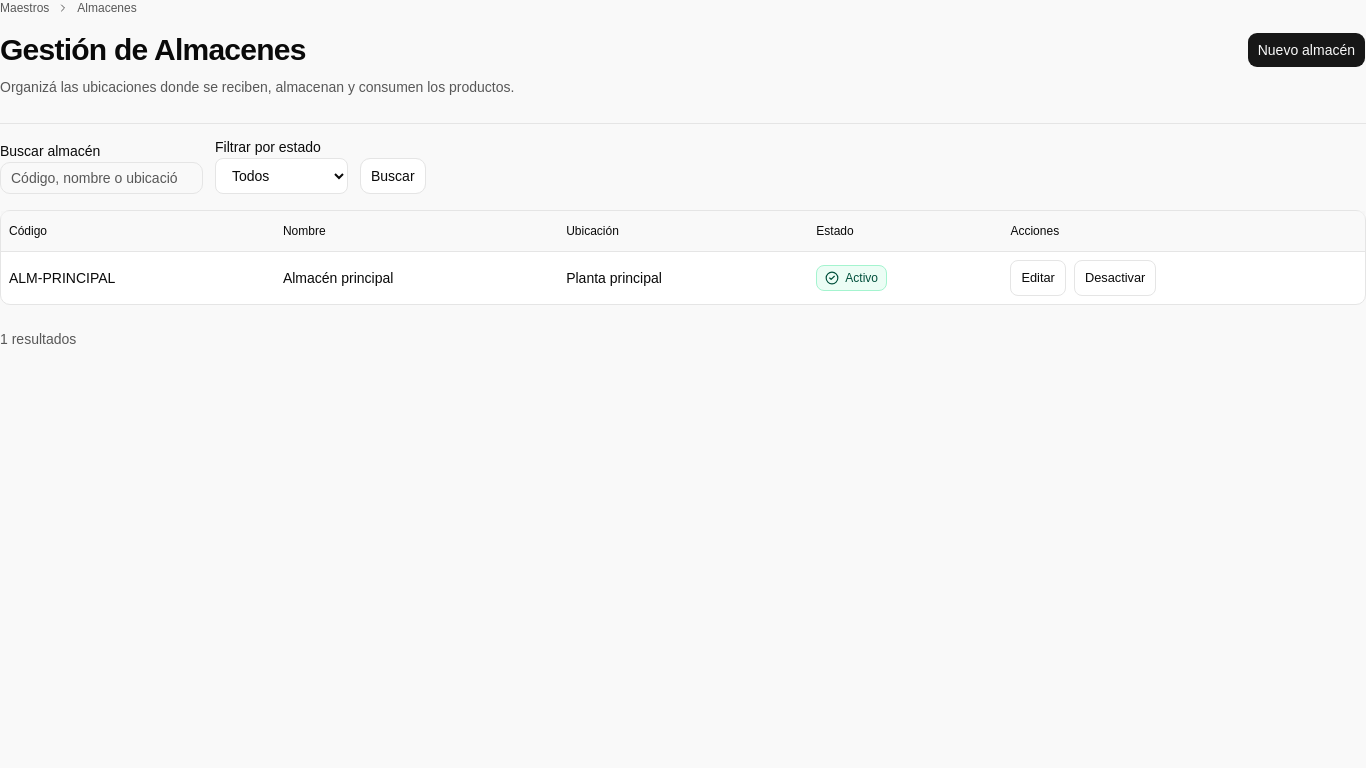
Scenario: Almacenes: interfaz de Inventario › ADMIN crea con ubicación y actualiza el listado
Expected: the table named "Almacenes" is shown, left=1, top=211, right=1365, bottom=304
Click the button "Nuevo almacén" at (1306, 50), box left=1247, top=32, right=1365, bottom=68
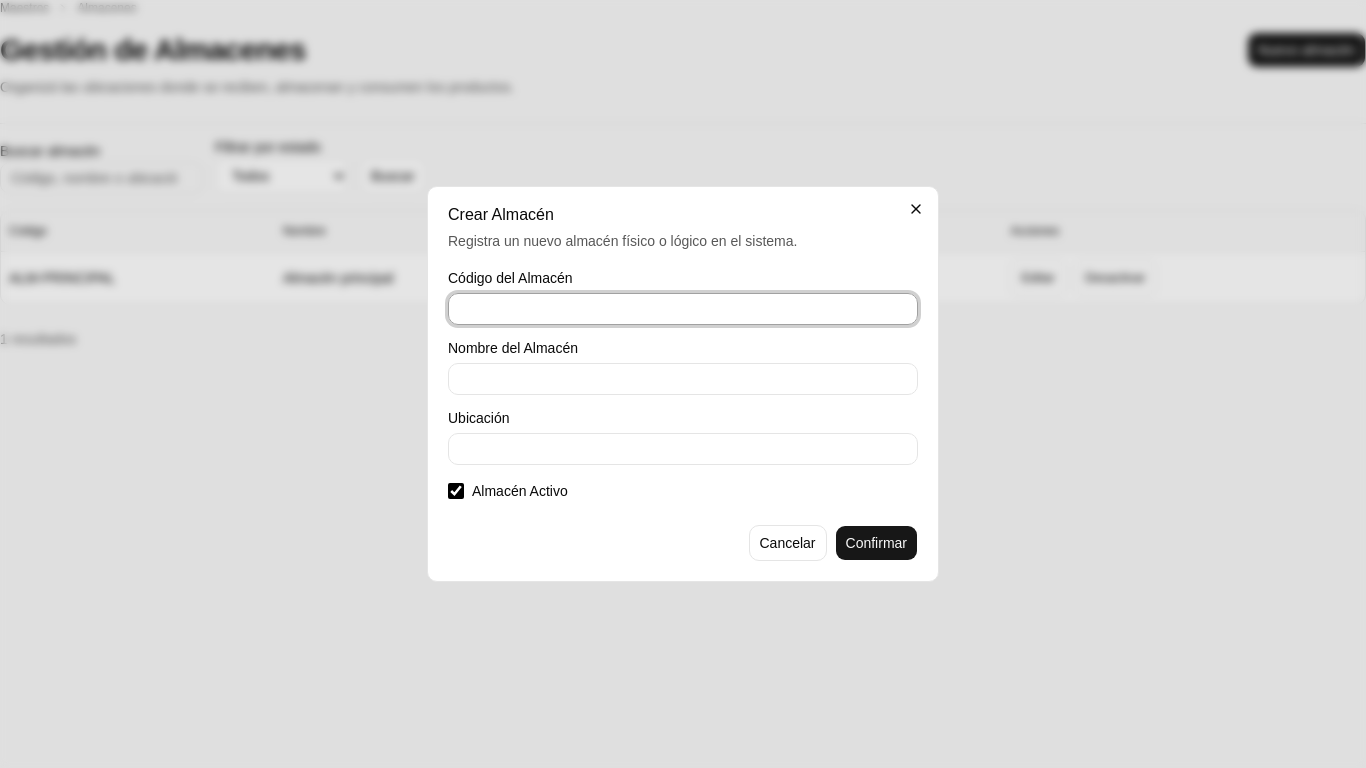
Type "ALM-NORTE" into the field labelled "Código del Almacén" at (683, 309), box left=448, top=293, right=918, bottom=325
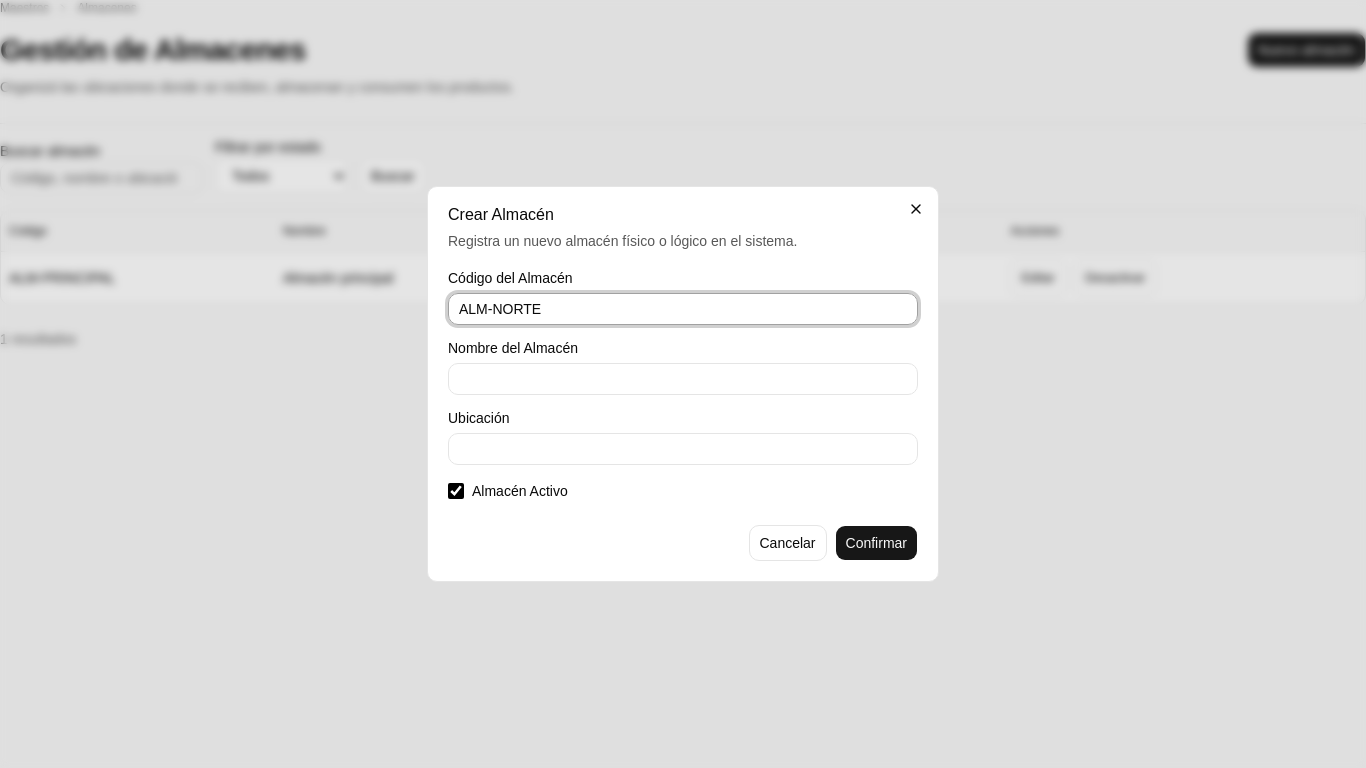
Type "Almacén Norte" into the field labelled "Nombre del Almacén" at (683, 379), box left=448, top=363, right=918, bottom=395
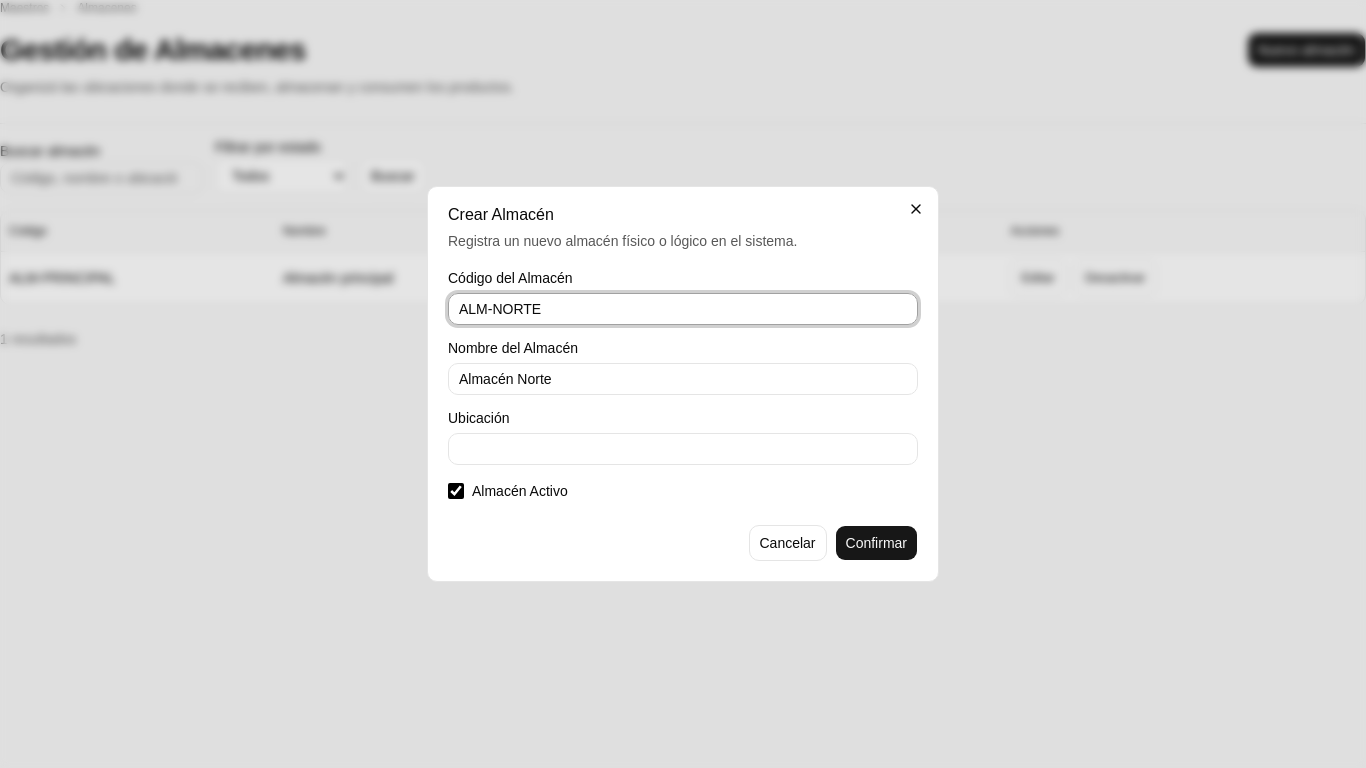
Type "Nave Norte" into the field labelled "Ubicación" at (683, 449), box left=448, top=433, right=918, bottom=465
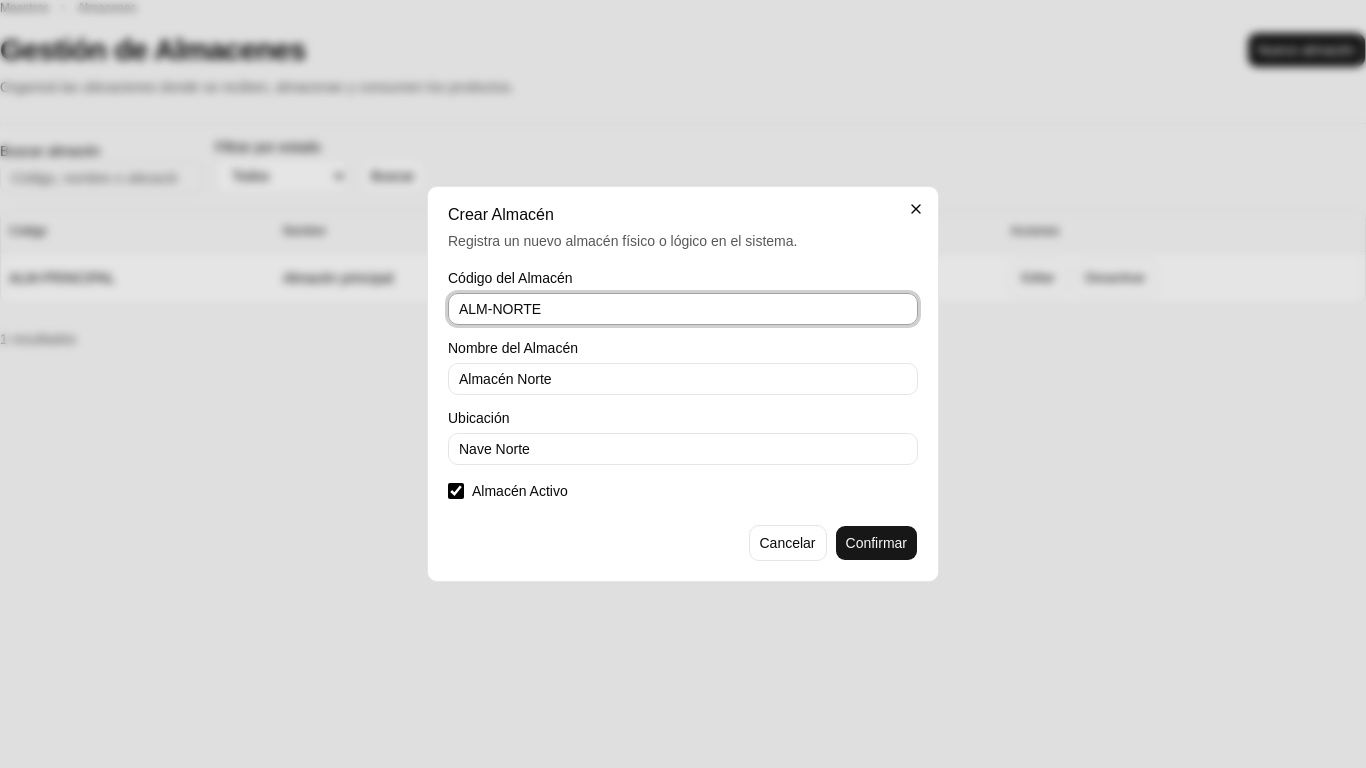
Expected: the checkbox labelled "Almacén Activo" is checked, left=448, top=483, right=464, bottom=499
Click the button "Confirmar" at (876, 543), box left=834, top=525, right=918, bottom=561
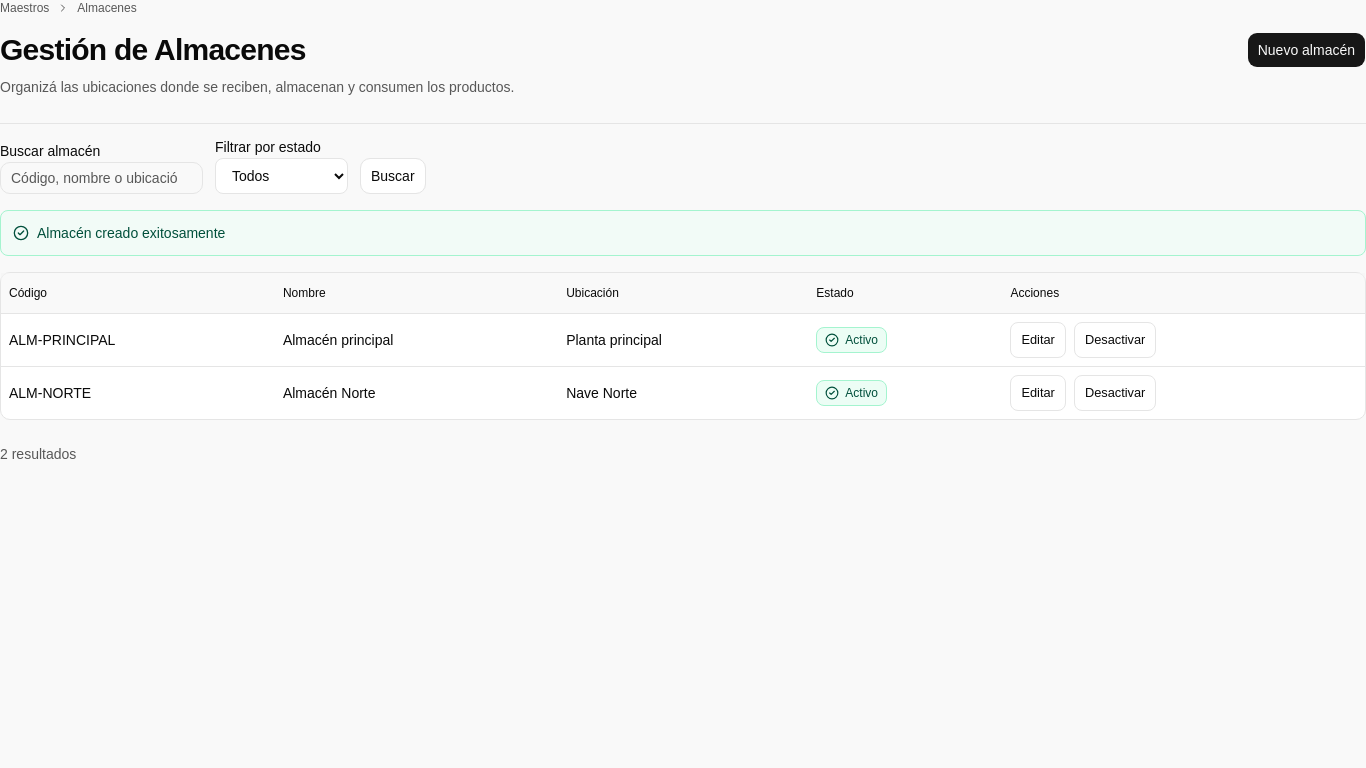
Expected: the text "Almacén creado exitosamente" is shown, left=37, top=223, right=225, bottom=243
Expected: the dialog is gone
Expected: the text "Nave Norte" is shown, left=558, top=366, right=808, bottom=419
